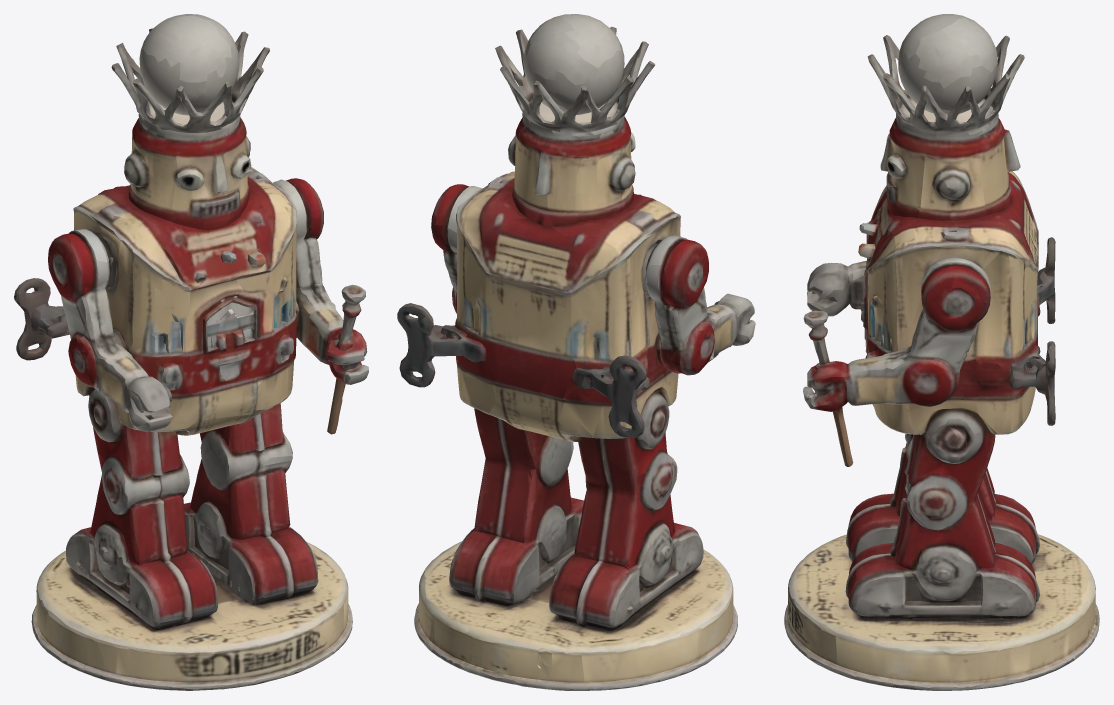
The picture shows the model from 3 angles, left to right: view 1: azimuth 30°, elevation 25°; view 2: azimuth 150°, elevation 25°; view 3: azimuth 270°, elevation 25°; orthographic projection.
Parts seen in each view (by area): view 1: world; view 2: world; view 3: world.
Part boxes in pixels (box(x1,y1,x2,y2)): world: box(14, 14, 368, 690); world: box(397, 14, 755, 690); world: box(784, 14, 1099, 690).
Bounding box in the file's own units: 0.1355 × 0.28 × 0.1325.
Materials: 1 (1 with a texture image).
